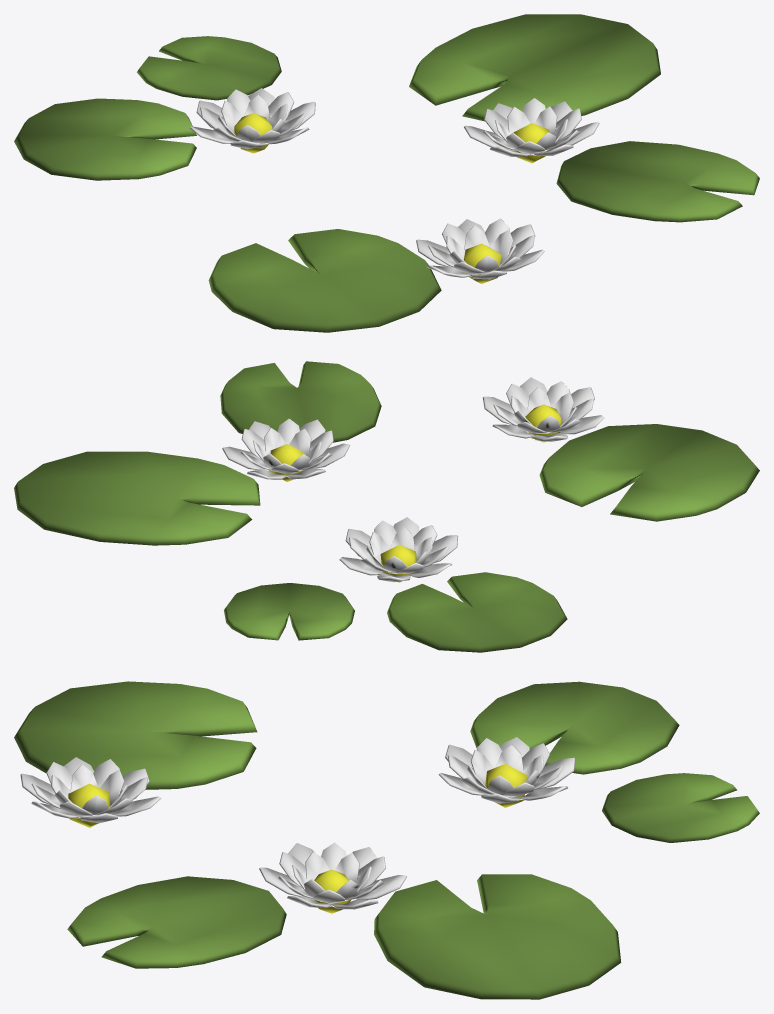
File: lumme_kasvanut.fbx
The picture shows the model from 3 angles, top to bottom: view 1: azimuth 30°, elevation 25°; view 2: azimuth 150°, elevation 25°; view 3: azimuth 270°, elevation 25°; orthographic projection. The views are drawn at different scales.
Parts seen in each view (by area): view 1: lumme_kasvanut; view 2: lumme_kasvanut; view 3: lumme_kasvanut.
Boxes of the visible parts, x1,y1,x2,y2 form: lumme_kasvanut: [14, 14, 759, 332]; lumme_kasvanut: [14, 361, 759, 652]; lumme_kasvanut: [14, 681, 759, 999].
Bounding box in the file's own units: 1.83 × 0.1337 × 1.81.
